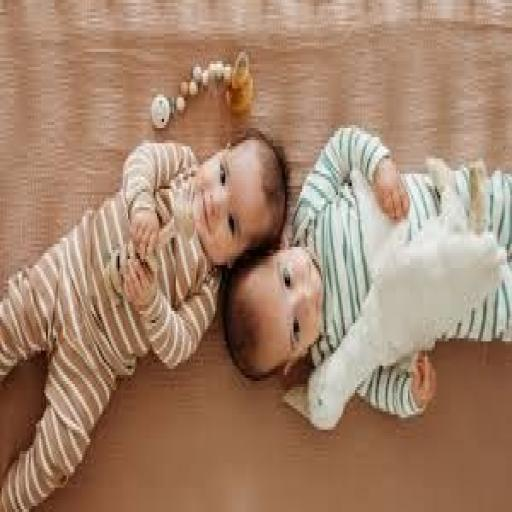baby: (0, 132, 286, 511), (224, 128, 438, 377)
